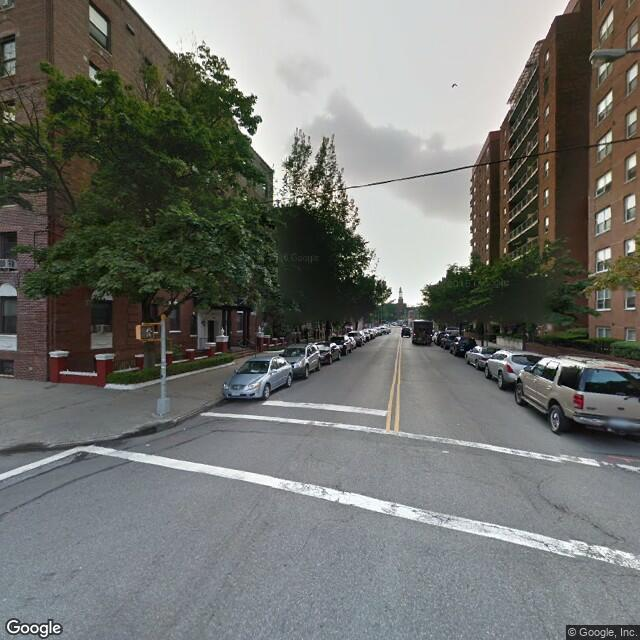litter: (144, 442, 149, 446), (183, 425, 187, 429), (441, 450, 449, 452)
